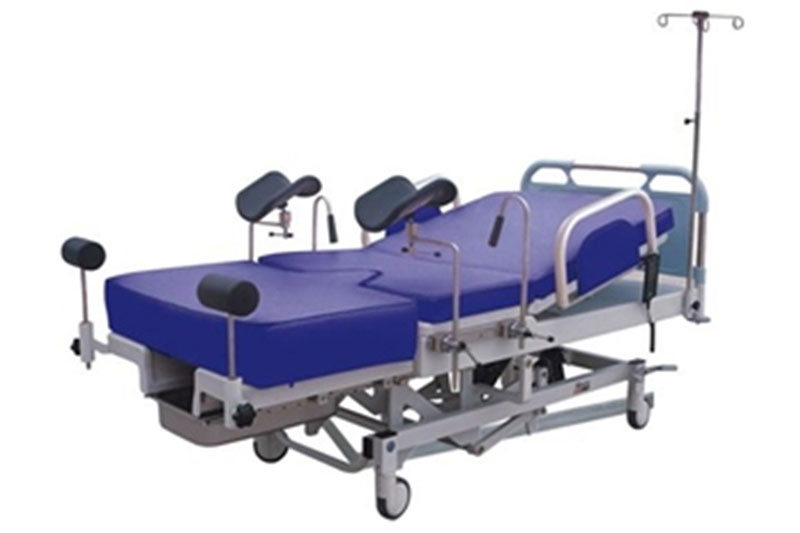trolley_bed: (54, 151, 716, 523)
